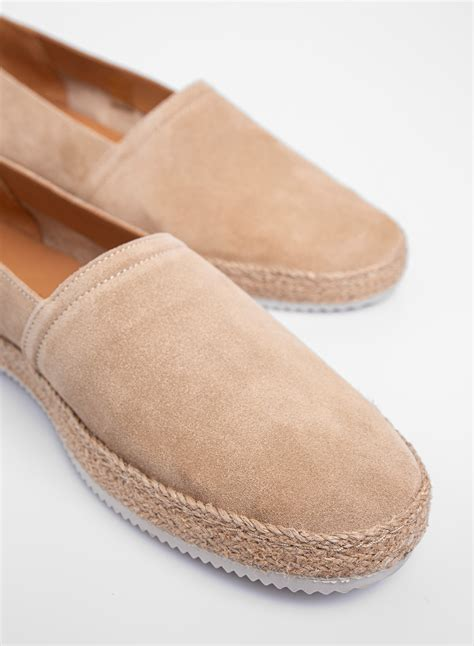gamuza: (2, 79, 424, 537)
